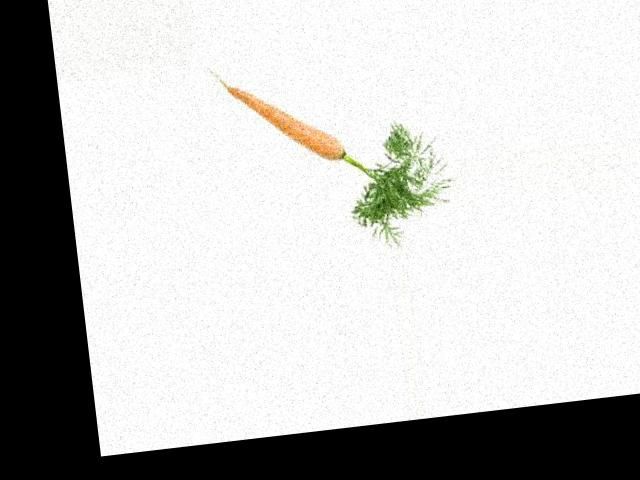carrot: (218, 66, 350, 175)
